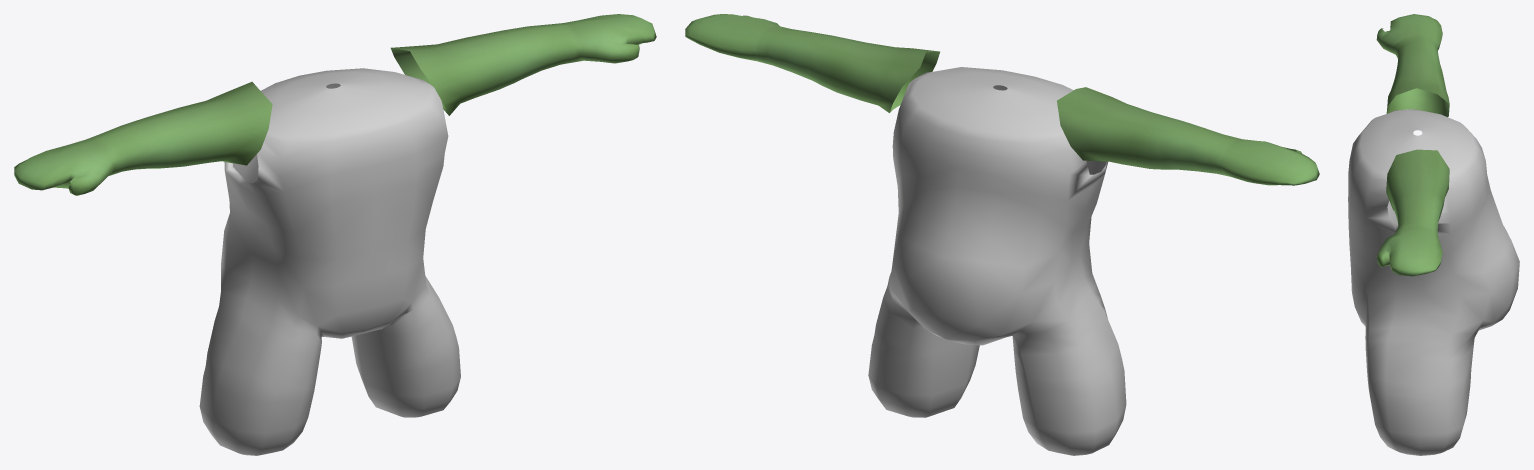
File: kappa-arms-monkey-body.fbx
3 renders of one model, left to right at view 1: azimuth 30°, elevation 25°; view 2: azimuth 150°, elevation 25°; view 3: azimuth 270°, elevation 25°, orthographic. The views are drawn at different scales.
Parts seen in each view (by area): view 1: Body, Kappa_rightArm, Kappa_leftArm; view 2: Body, Kappa_rightArm, Kappa_leftArm; view 3: Body, Kappa_leftArm, Kappa_rightArm.
Part boxes in pixels (x1=…): Body: x1=199, y1=68, x2=460, y2=455; Kappa_rightArm: x1=14, y1=81, x2=272, y2=195; Kappa_leftArm: x1=390, y1=14, x2=656, y2=115; Body: x1=868, y1=67, x2=1126, y2=455; Kappa_rightArm: x1=1057, y1=87, x2=1319, y2=185; Kappa_leftArm: x1=685, y1=14, x2=939, y2=112; Body: x1=1348, y1=109, x2=1519, y2=455; Kappa_leftArm: x1=1376, y1=149, x2=1449, y2=276; Kappa_rightArm: x1=1376, y1=14, x2=1449, y2=116.
Bounding box in the file's own units: 43.02 × 23.34 × 12.15.
